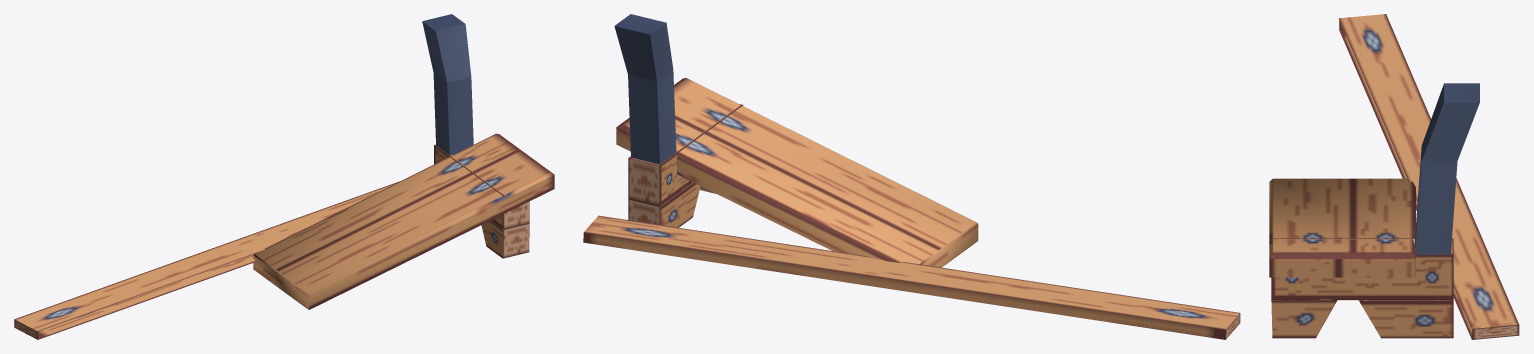
Rendered from BanquinhoQuebrado.fbx.
The picture shows the model from 3 angles, left to right: view 1: azimuth 30°, elevation 25°; view 2: azimuth 150°, elevation 25°; view 3: azimuth 270°, elevation 25°; orthographic projection. The views are drawn at different scales.
Parts seen in each view (by area): view 1: Banquinho; view 2: Banquinho; view 3: Banquinho.
Part boxes in pixels (x1,y1,x2,y2): Banquinho: [14, 14, 554, 339]; Banquinho: [583, 14, 1240, 339]; Banquinho: [1269, 14, 1519, 339].
Bounding box in the file's own units: 282 × 93.58 × 99.51.
